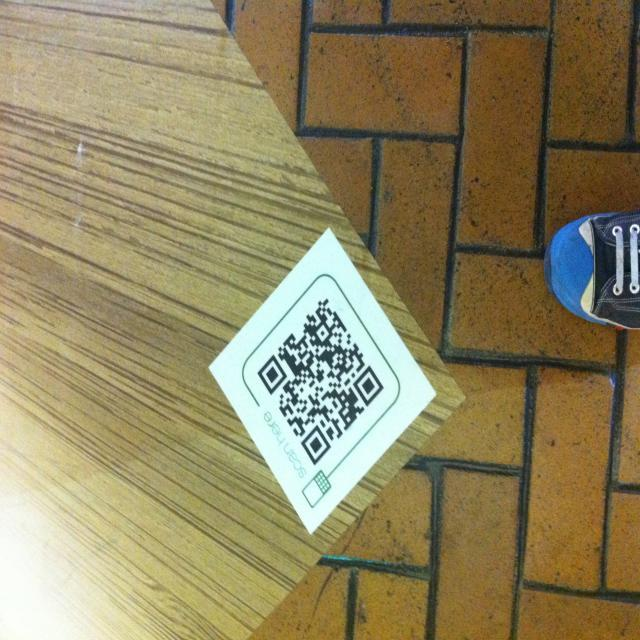qrcode: (258, 299, 385, 466)
